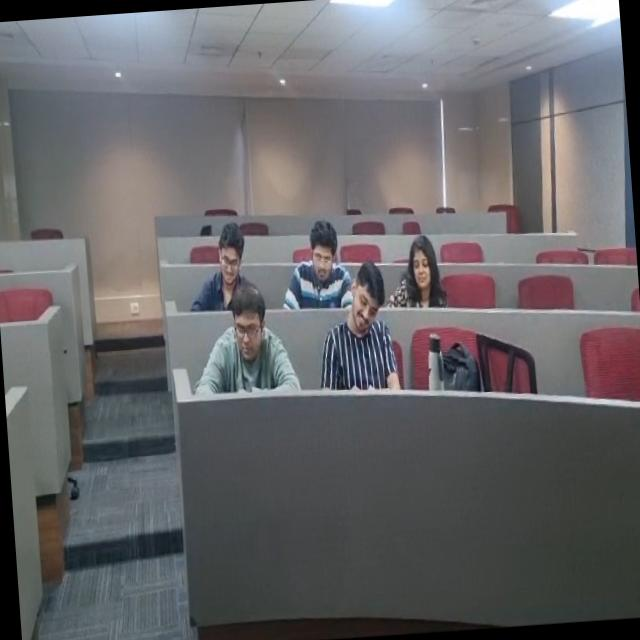cheating: (340, 257, 390, 347), (208, 210, 252, 300)
non-cheating: (282, 206, 354, 311), (221, 284, 279, 392), (386, 220, 450, 312)
